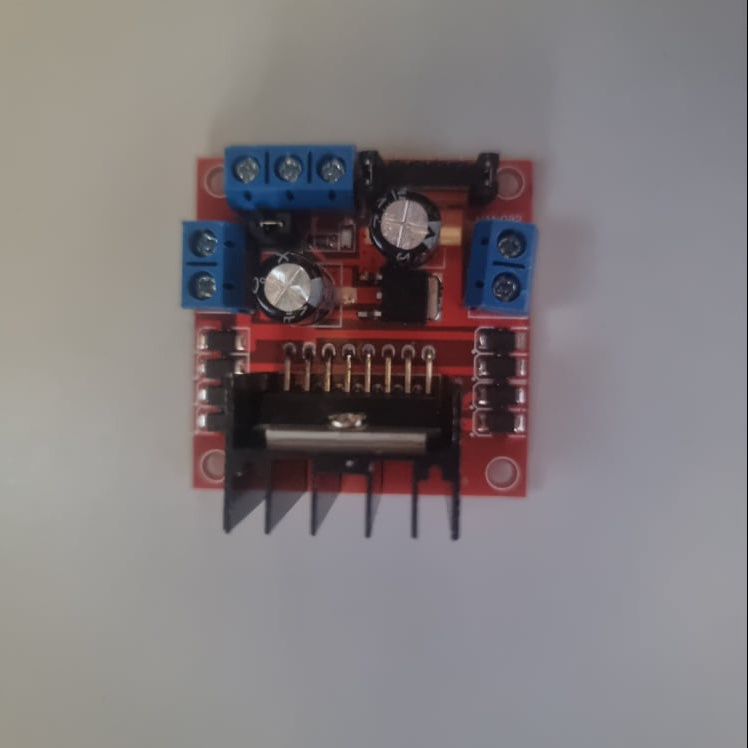MOTOR: (179, 142, 545, 545)
